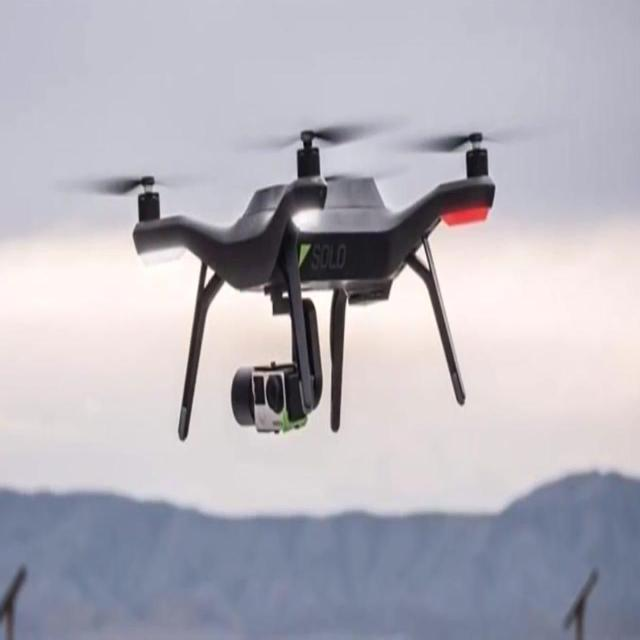drone: (117, 129, 498, 442)
